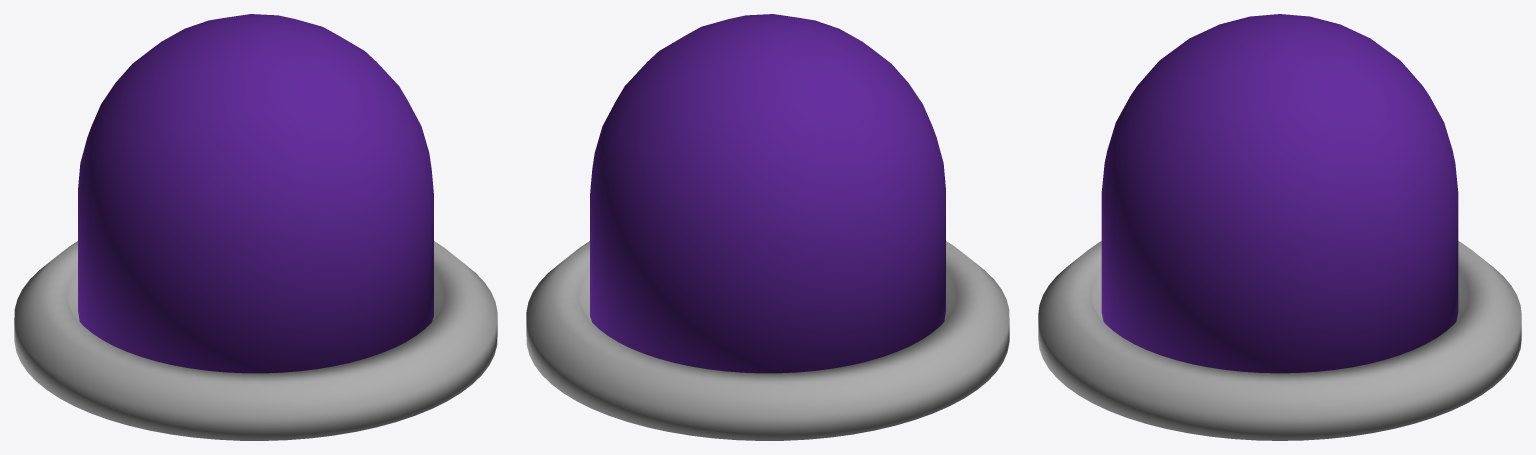
File: shadow switch.glb
3 views of the same model, side by side, from view 1: azimuth 30°, elevation 25°; view 2: azimuth 150°, elevation 25°; view 3: azimuth 270°, elevation 25° (orthographic).
Parts seen in each view (by area): view 1: Red Button.003, Shadow Switch; view 2: Red Button.003, Shadow Switch; view 3: Red Button.003, Shadow Switch.
Boxes of the visible parts, x1,y1,x2,y2 form: Red Button.003: (78,14,433,373); Shadow Switch: (14,241,497,440); Red Button.003: (590,14,945,373); Shadow Switch: (526,241,1009,440); Red Button.003: (1101,14,1458,373); Shadow Switch: (1038,241,1521,440).
Bounding box in the file's own units: 1.17 × 0.837 × 1.17.
